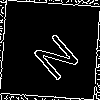N: (25, 25, 82, 82)
